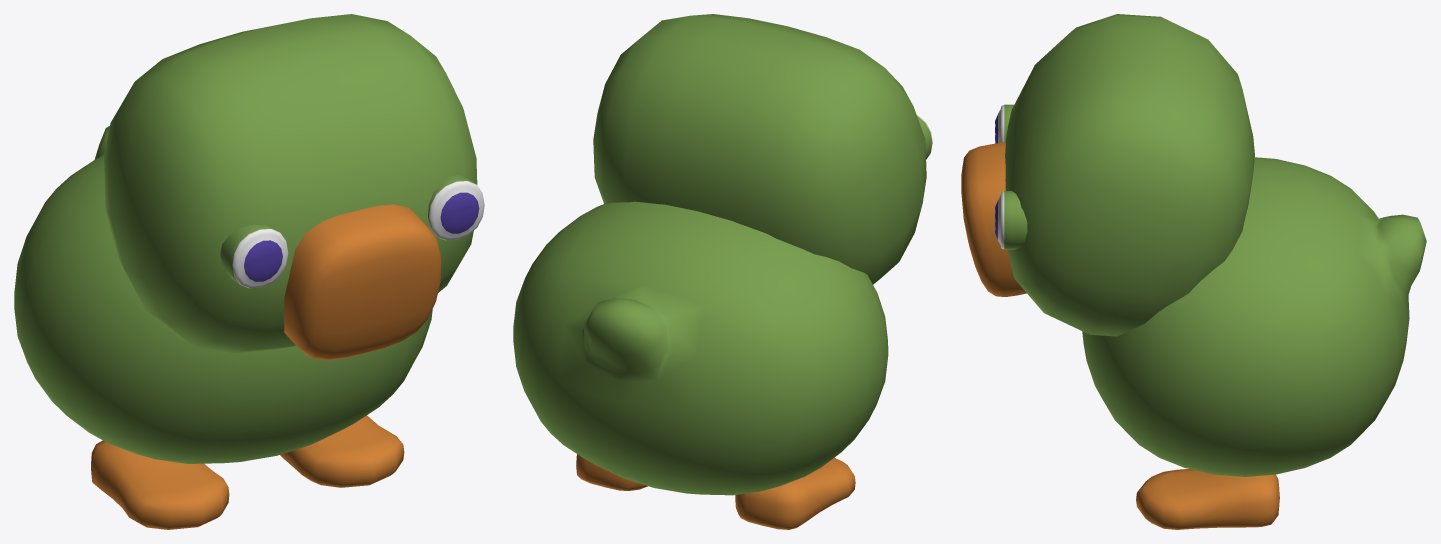
File: quacky.fbx
The picture shows the model from 3 angles, left to right: view 1: azimuth 30°, elevation 25°; view 2: azimuth 150°, elevation 25°; view 3: azimuth 270°, elevation 25°; orthographic projection. The views are drawn at different scales.
Parts seen in each view (by area): view 1: Cube.001, Cube.004, Cube.005, Cube.003, Cube, Cube.002; view 2: Cube.004, Cube.001, Cube.003, Cube.002; view 3: Cube.004, Cube.001, Cube.002, Cube.005, Cube.
Boxes of the visible parts, <box> form: Cube.001: <box>104,14,477,354</box>; Cube.004: <box>14,126,432,463</box>; Cube.005: <box>284,204,441,360</box>; Cube.003: <box>91,440,229,529</box>; Cube: <box>220,174,484,288</box>; Cube.002: <box>280,415,404,487</box>; Cube.004: <box>513,201,888,495</box>; Cube.001: <box>593,14,926,284</box>; Cube.003: <box>735,458,855,529</box>; Cube.002: <box>576,454,647,490</box>; Cube.004: <box>1082,157,1426,476</box>; Cube.001: <box>1005,14,1254,336</box>; Cube.002: <box>1136,469,1279,529</box>; Cube.005: <box>961,142,1026,296</box>; Cube: <box>995,104,1027,249</box>.
Bounding box in the file's own units: 160 × 195 × 192.
